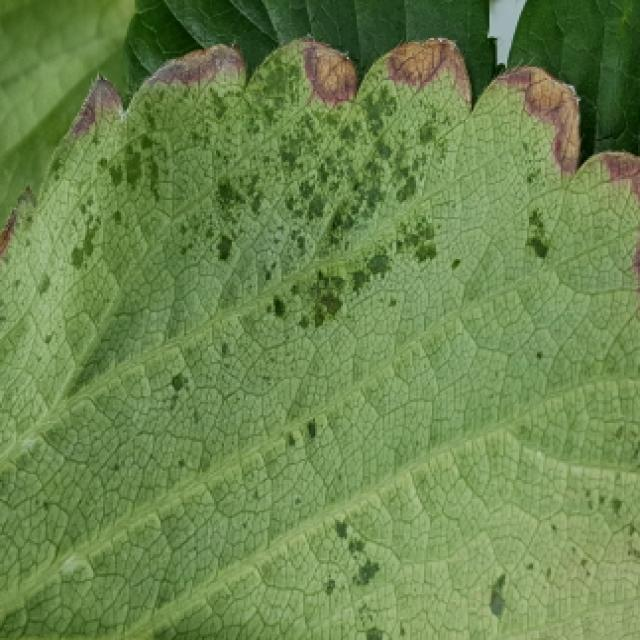Angular Leafspot: (0, 34, 640, 640)
